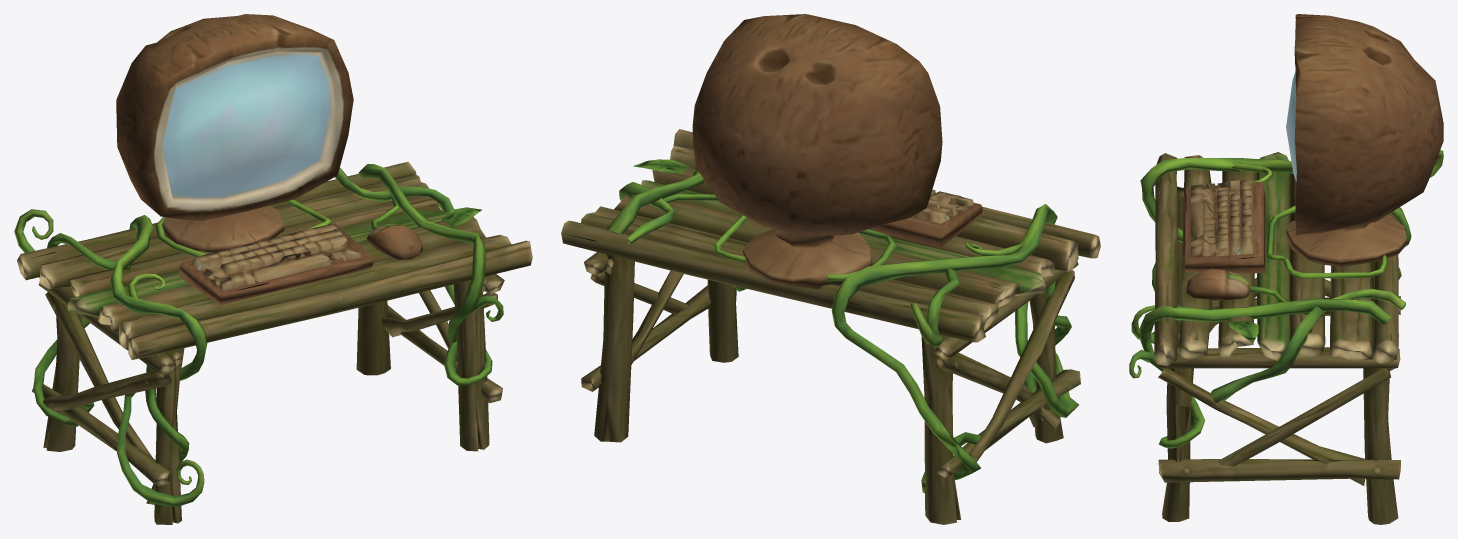
The model's file is coconut-computer.glb.
3 views of the same model, side by side, from view 1: azimuth 30°, elevation 25°; view 2: azimuth 150°, elevation 25°; view 3: azimuth 270°, elevation 25° (orthographic). The views are drawn at different scales.
Parts seen in each view (by area): view 1: geometry_0; view 2: geometry_0; view 3: geometry_0.
Boxes of the visible parts, bbox=[...] form: geometry_0: bbox=[14, 14, 532, 524]; geometry_0: bbox=[561, 14, 1100, 524]; geometry_0: bbox=[1129, 14, 1443, 524].
Size of the model in its own units: 0.9575 by 0.916 by 0.6465.
Materials: 1 (1 with a texture image).
